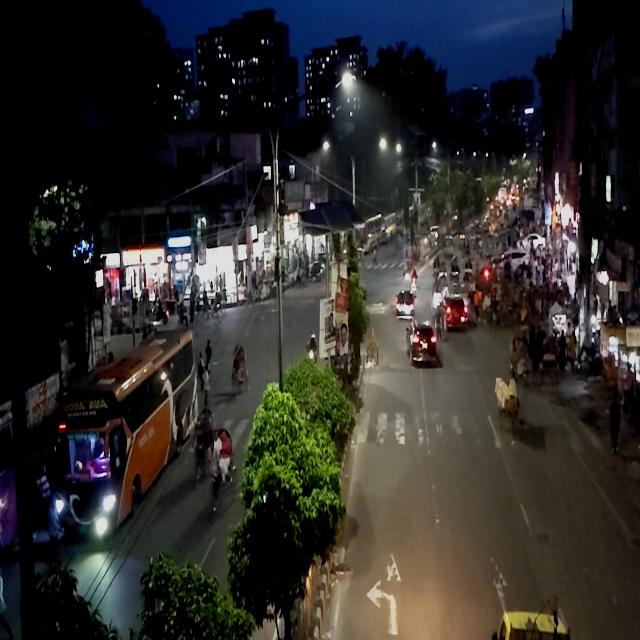black: (406, 323, 436, 365), (395, 292, 415, 321)
maroon: (439, 296, 467, 330)
